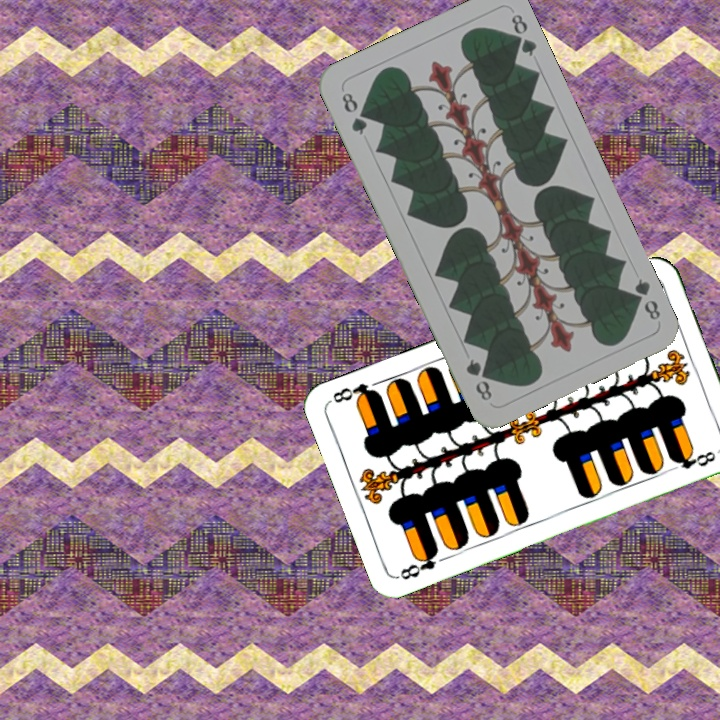E8: (394, 545, 441, 583)
G8: (625, 274, 663, 323), (337, 88, 370, 138)
